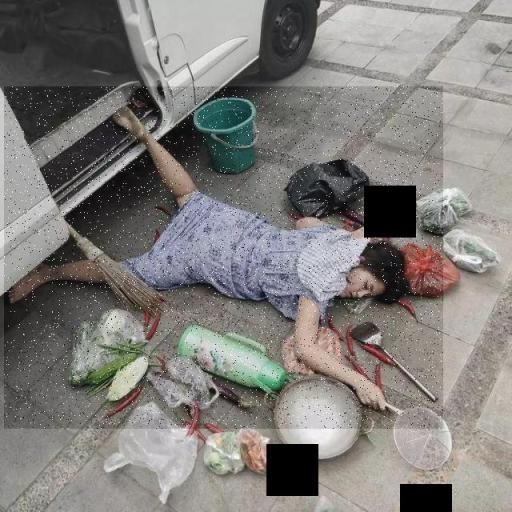Fall: (4, 86, 443, 429)
